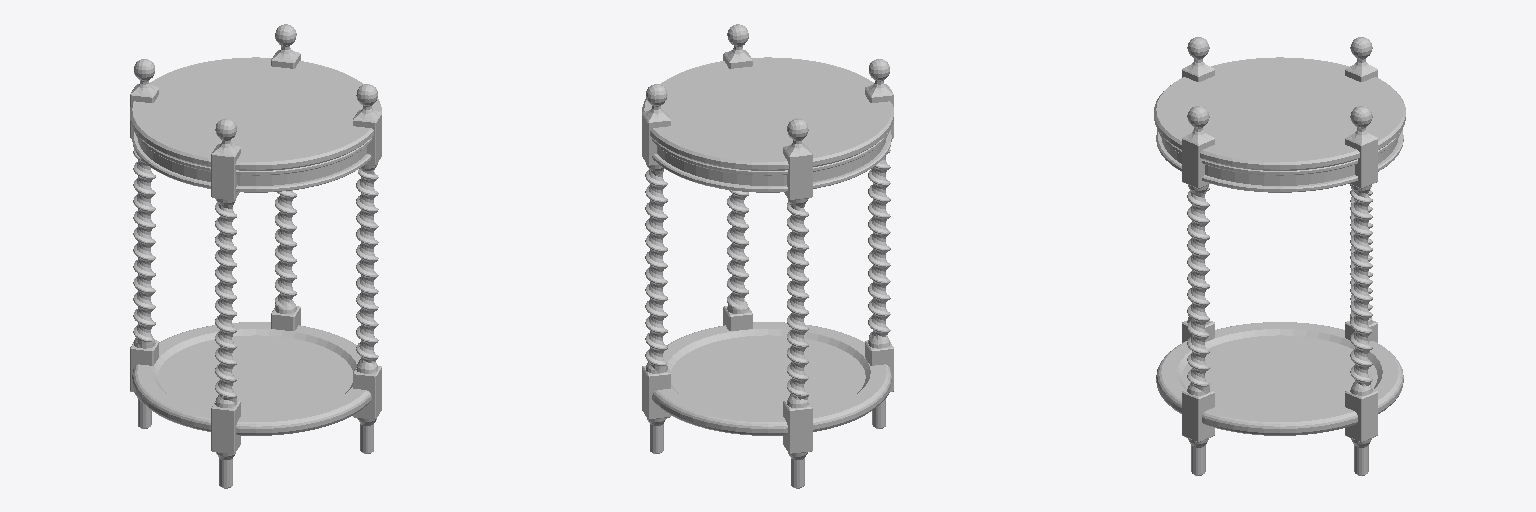
3 views of the same model, side by side, from view 1: azimuth 30°, elevation 25°; view 2: azimuth 150°, elevation 25°; view 3: azimuth 270°, elevation 25° (orthographic).
Visible parts, largest first — view 1: TableProjector_01_A_LOD0; view 2: TableProjector_01_A_LOD0; view 3: TableProjector_01_A_LOD0.
Part boxes in pixels (x1,y1,x2,y2): TableProjector_01_A_LOD0: (130,24,381,488); TableProjector_01_A_LOD0: (642,24,893,488); TableProjector_01_A_LOD0: (1154,37,1405,475).
Size of the model in its own units: 0.5099 by 0.818 by 0.5099.